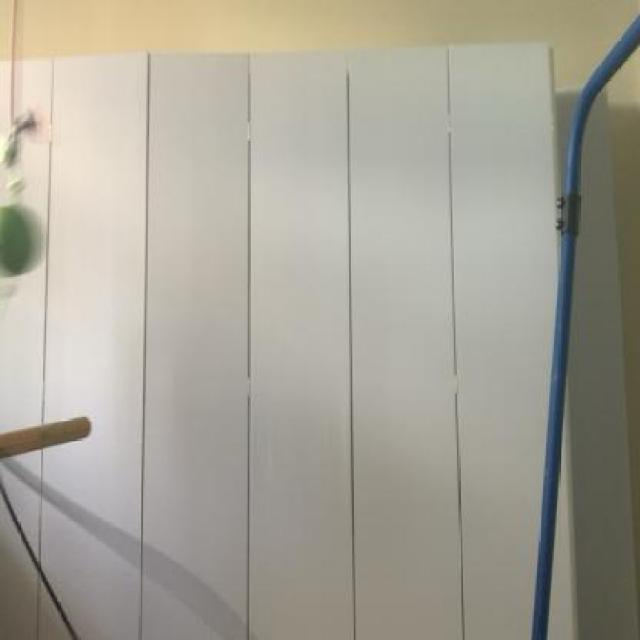baseball: (0, 205, 51, 280)
